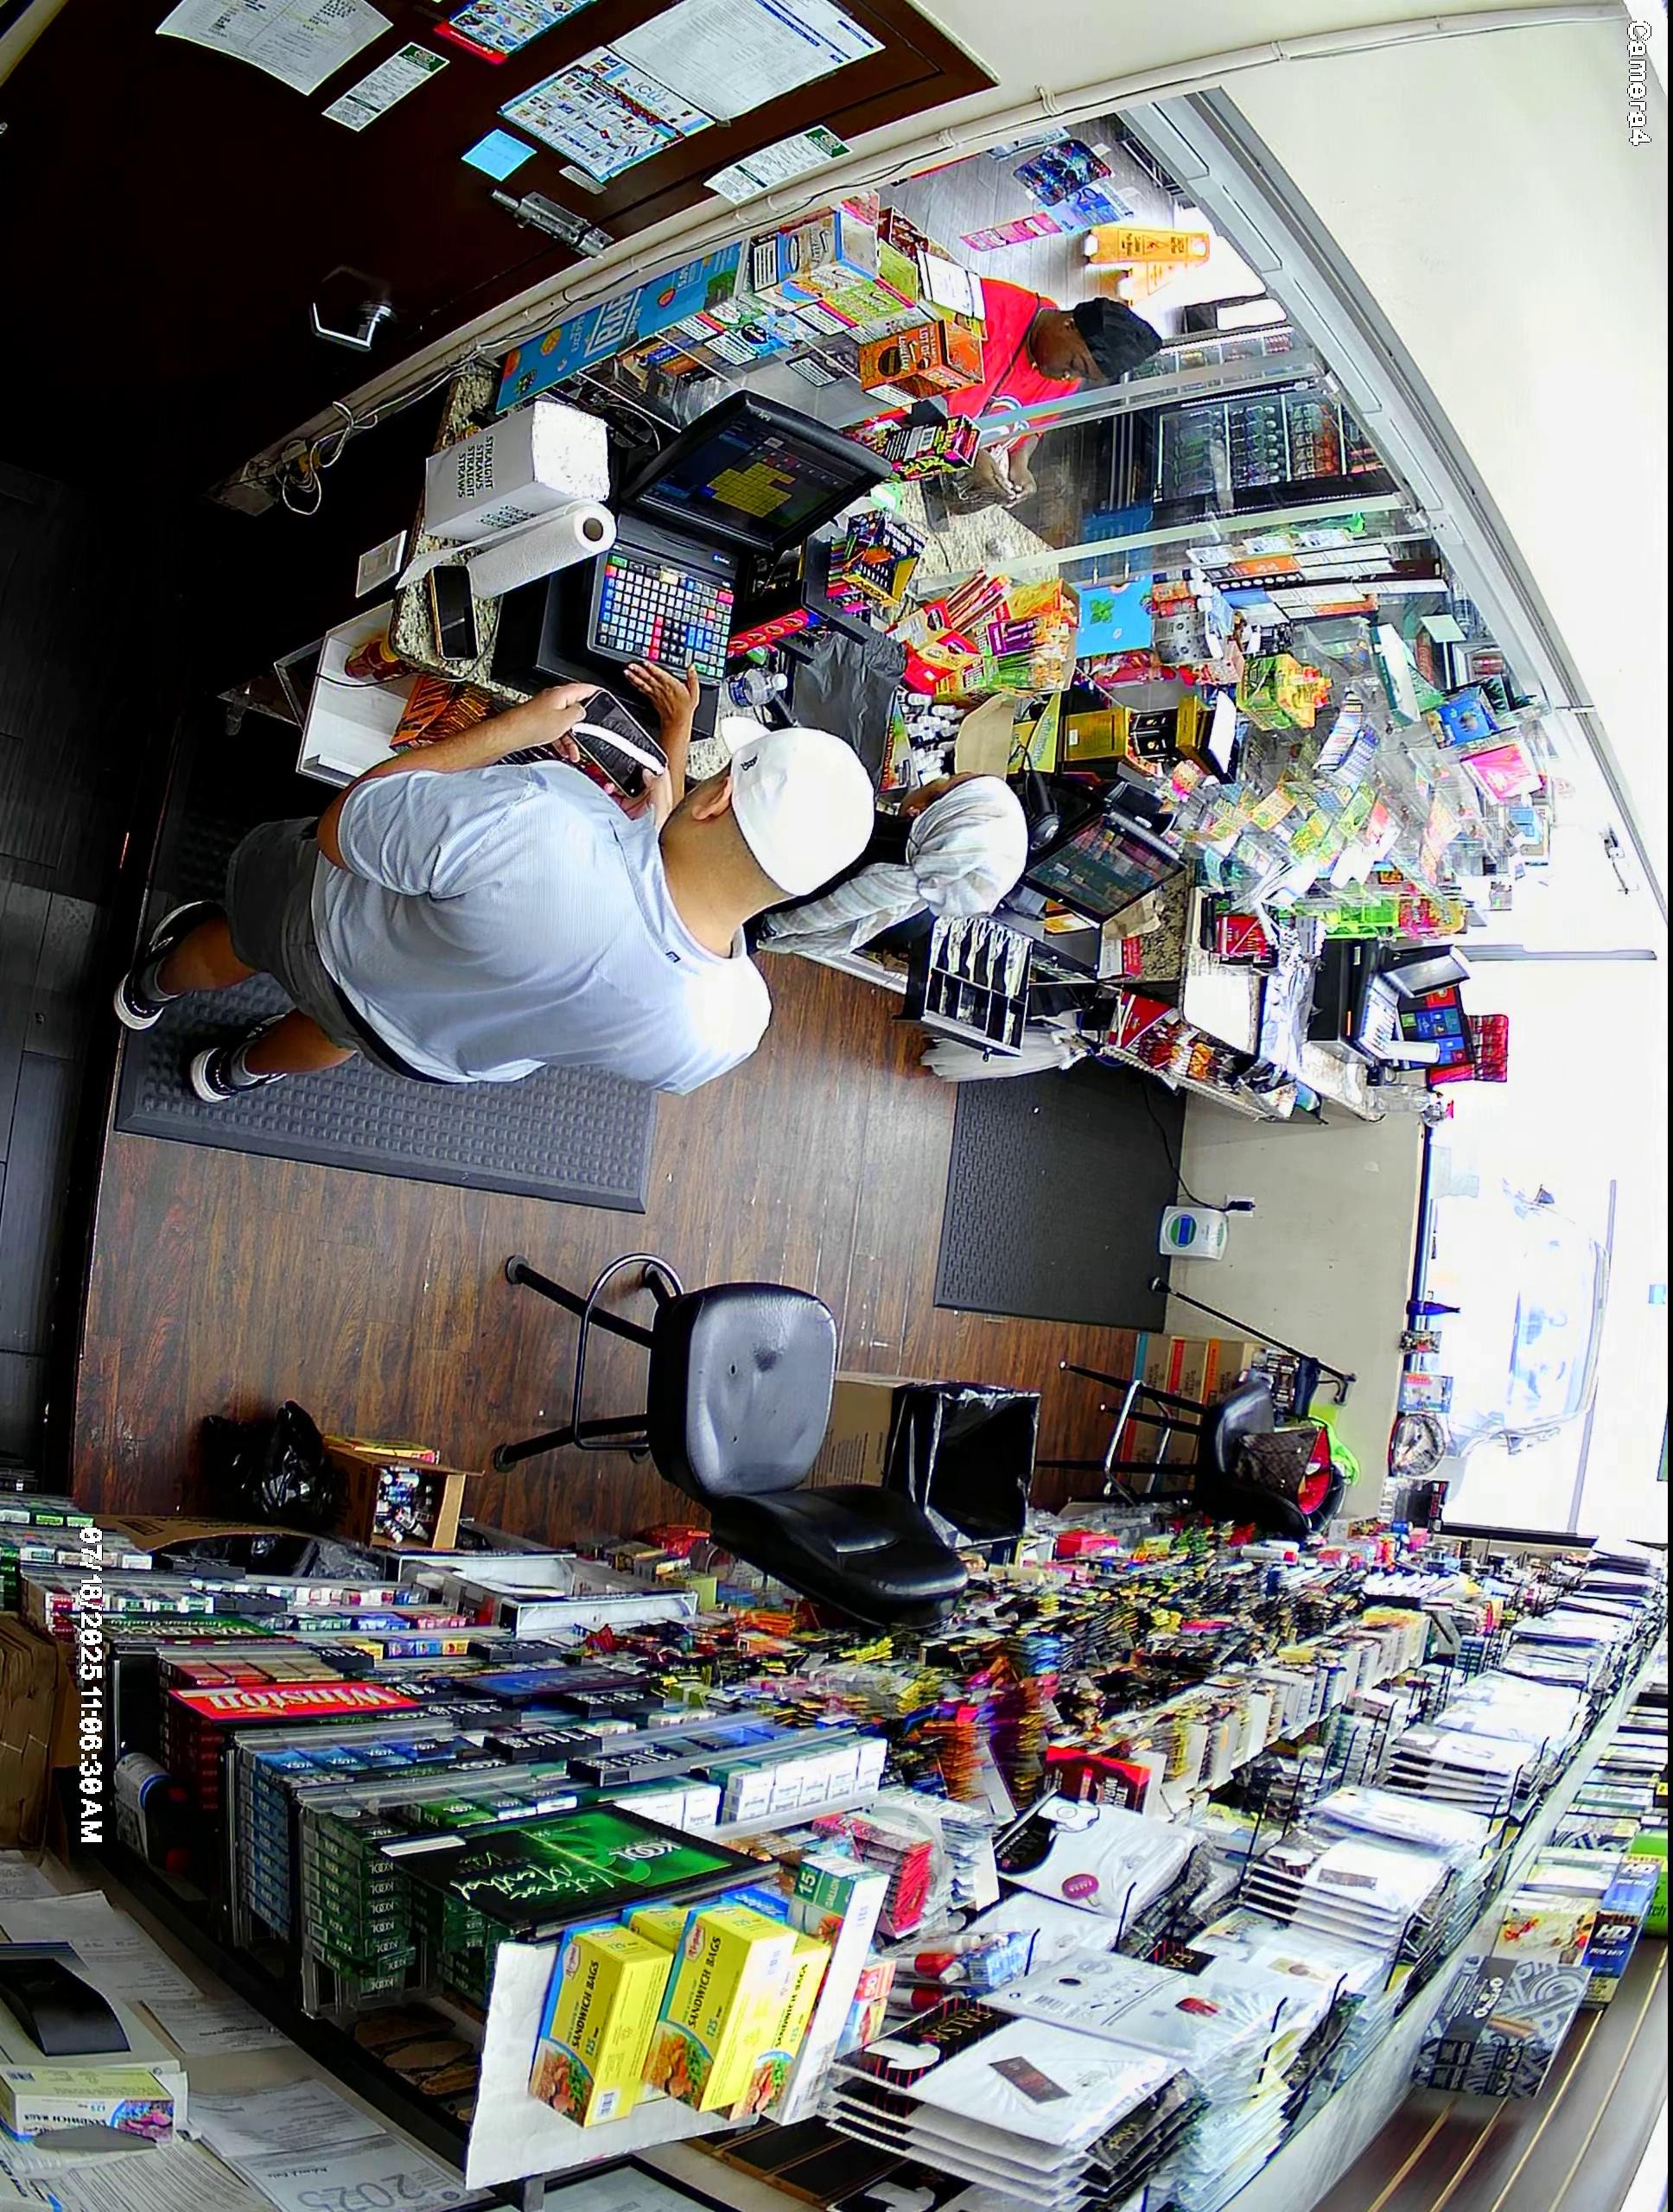phone: (559, 680, 680, 810)
